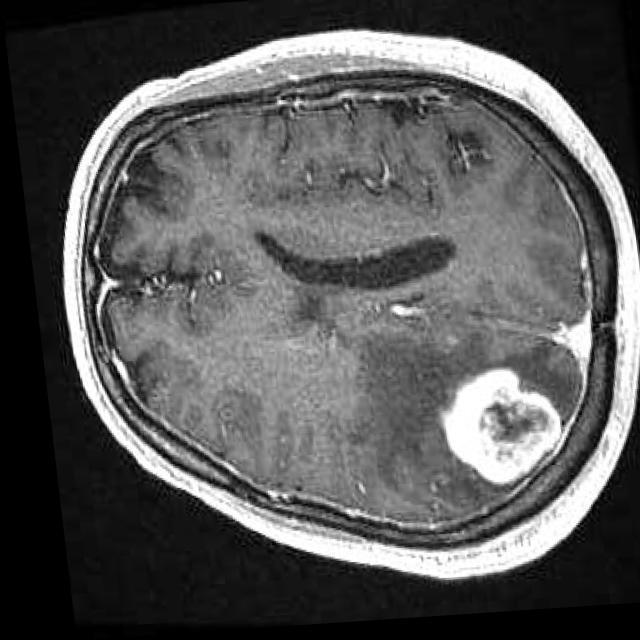Tumor: (434, 376, 548, 491)
